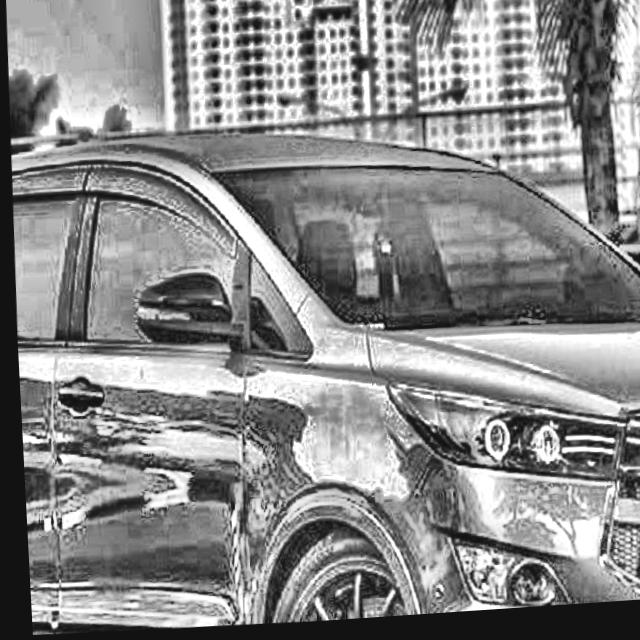light_vehicle: (6, 106, 640, 640)
